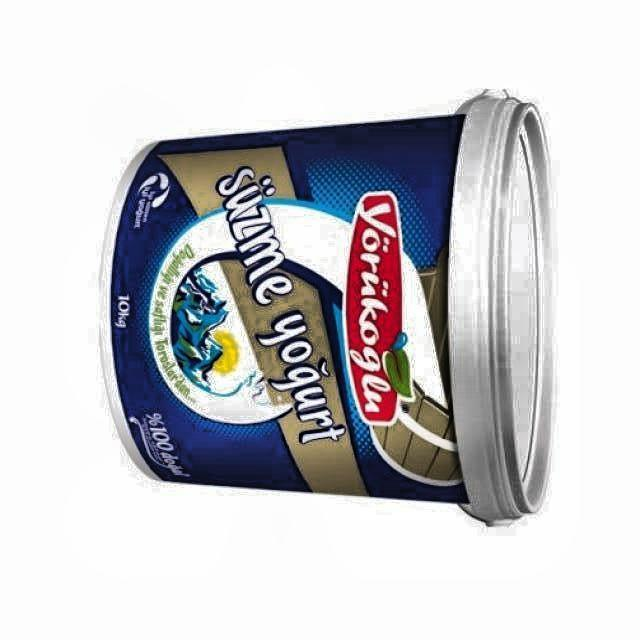plastic: (101, 95, 549, 524)
